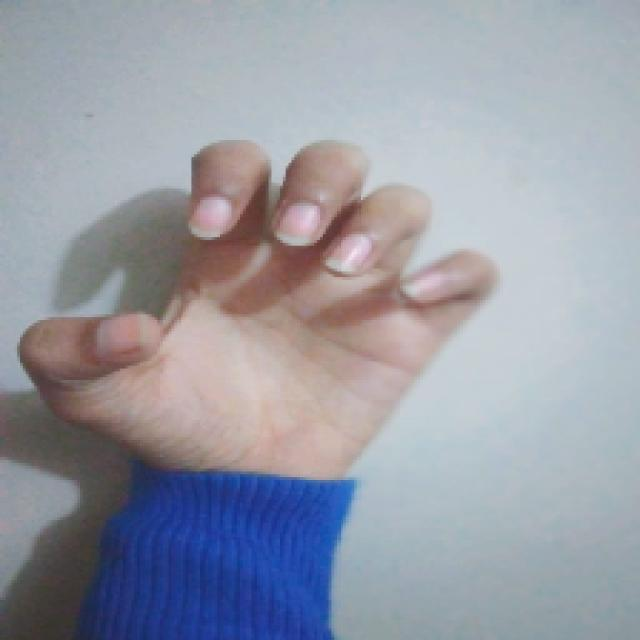Nail: (275, 201, 321, 246), (325, 234, 372, 275), (93, 315, 141, 355), (191, 195, 233, 240), (400, 269, 446, 304)
